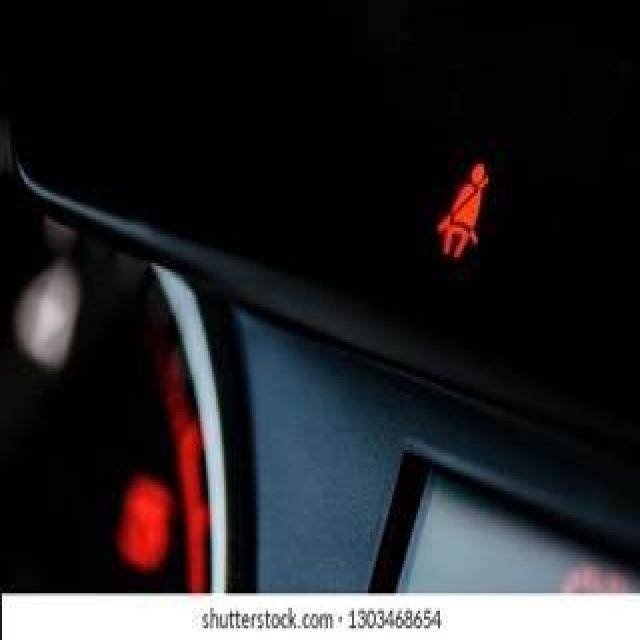kontrolka: (416, 101, 524, 313)
